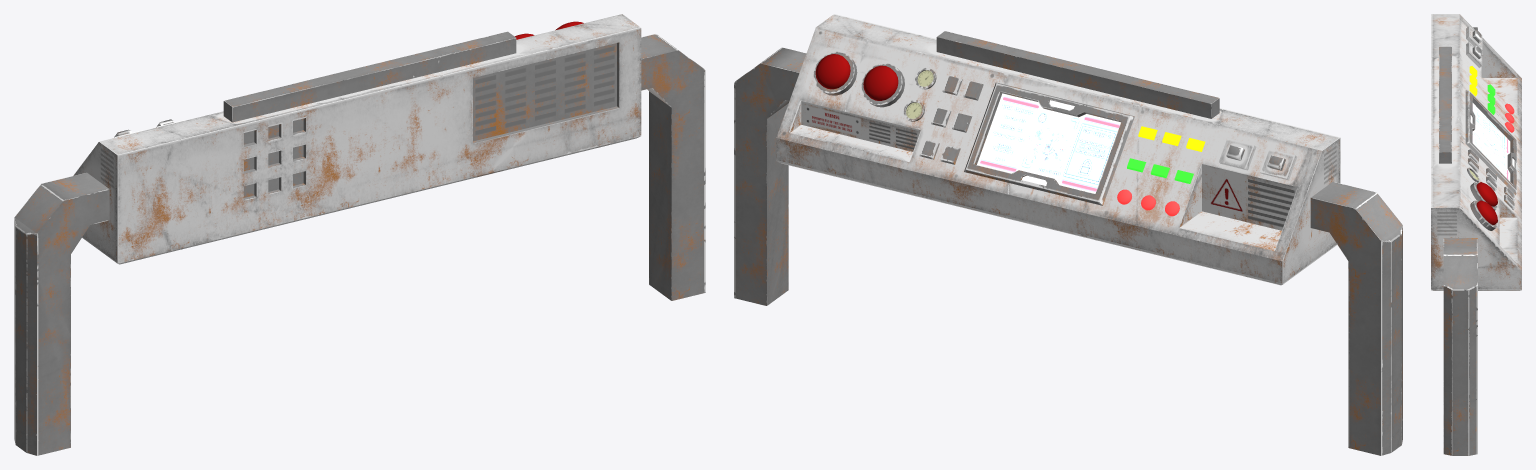
Rendered from console.gltf.
3 views of the same model, side by side, from view 1: azimuth 30°, elevation 25°; view 2: azimuth 150°, elevation 25°; view 3: azimuth 270°, elevation 25° (orthographic). The views are drawn at different scales.
Parts seen in each view (by area): view 1: polySurface655; view 2: polySurface655; view 3: polySurface655.
Part boxes in pixels (left/top/right/bottom): polySurface655: left=14, top=14, right=705, bottom=455; polySurface655: left=734, top=14, right=1402, bottom=455; polySurface655: left=1431, top=14, right=1521, bottom=455.
Bounding box in the file's own units: 276 × 118 × 42.11.
Materials: 1 (1 with a texture image).
